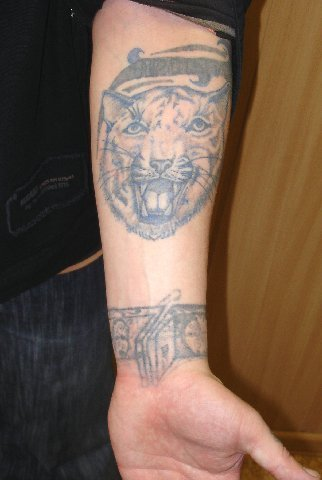tatu5_tigr: (93, 84, 222, 241)
